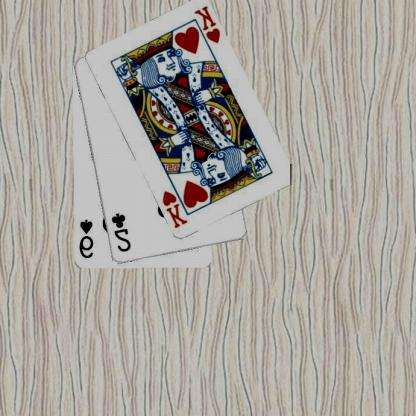2C: (110, 211, 134, 253)
6S: (78, 216, 96, 260)
KH: (161, 188, 190, 230), (193, 4, 223, 44)
